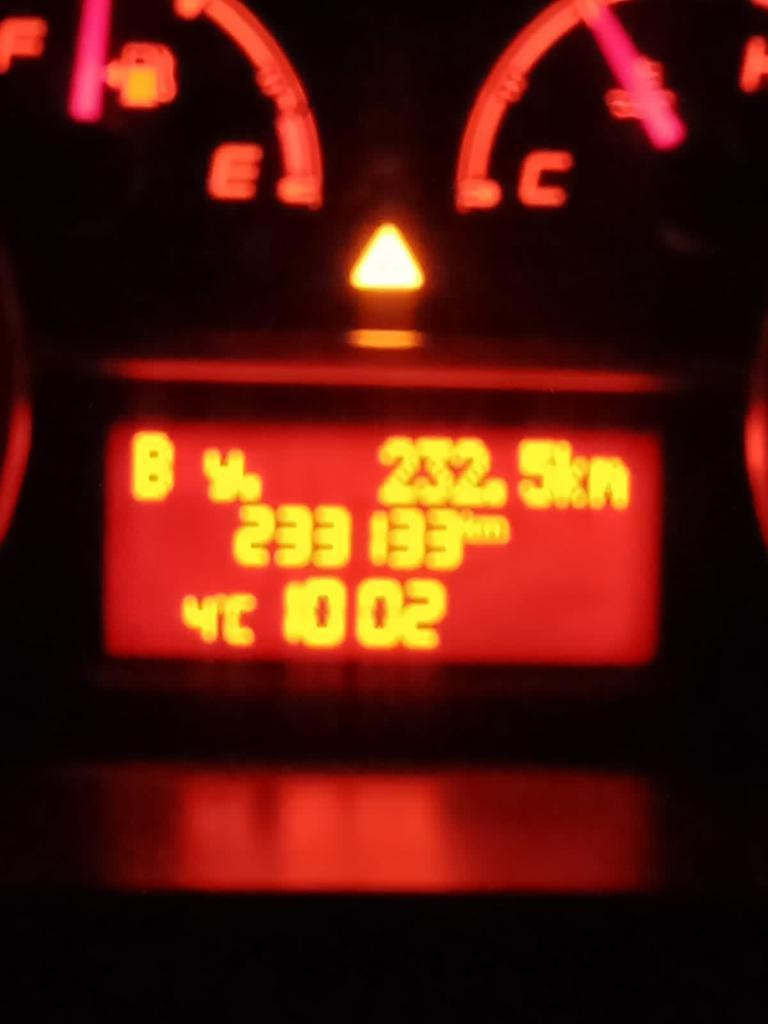,: (241, 470, 264, 504), (487, 474, 508, 508)
0: (355, 576, 403, 650), (303, 576, 347, 649)
1: (280, 578, 302, 646), (366, 507, 389, 569)
2: (402, 573, 448, 651), (373, 434, 417, 506), (230, 504, 274, 567), (452, 432, 487, 507)
3: (417, 435, 453, 506), (274, 502, 312, 568), (313, 504, 352, 567), (389, 506, 426, 569), (426, 508, 463, 571)
4: (179, 590, 216, 644)
5: (517, 438, 556, 509)
X: (125, 426, 176, 504), (194, 441, 242, 504), (555, 439, 589, 509), (589, 453, 631, 509), (226, 590, 258, 646), (478, 512, 512, 543), (462, 508, 478, 543)
odometer: (92, 410, 673, 676)
